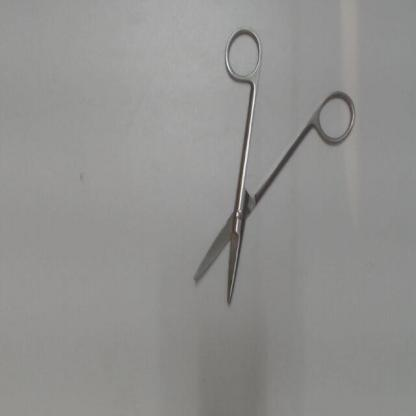Curved Mayo Scissors: (190, 23, 361, 312)
